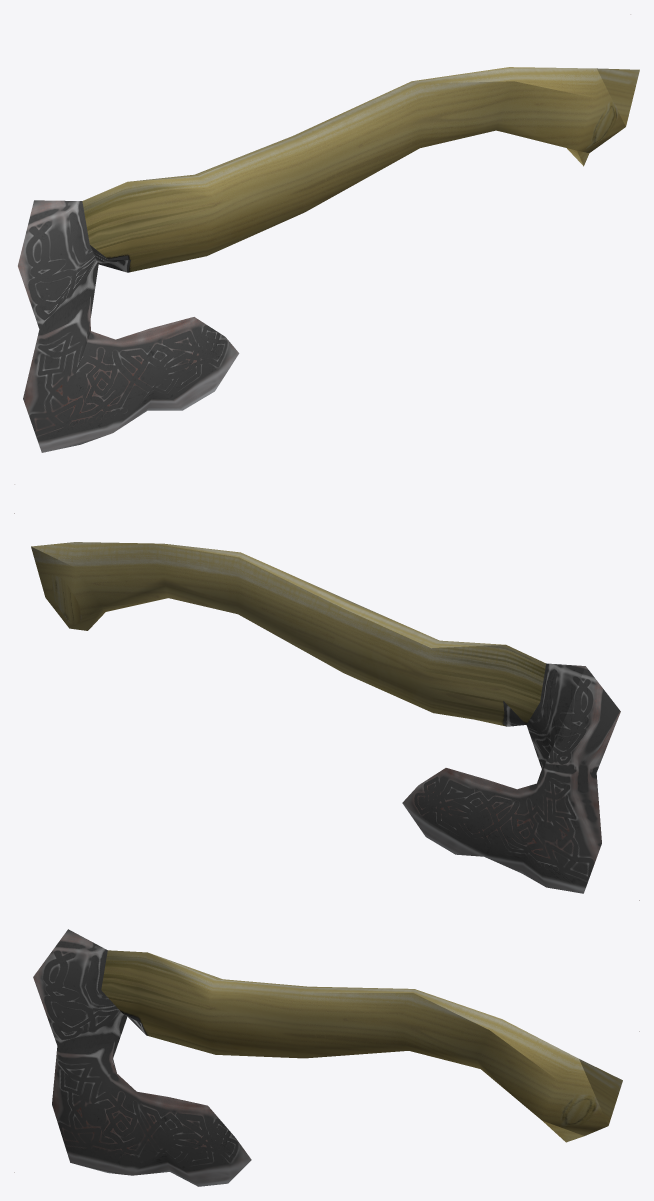
The model's file is Axt_LOD1.dae.
The picture shows the model from 3 angles, top to bottom: view 1: azimuth 30°, elevation 25°; view 2: azimuth 150°, elevation 25°; view 3: azimuth 330°, elevation 25°; orthographic projection. The views are drawn at different scales.
Visible parts, largest first — view 1: Axt_LOD1; view 2: Axt_LOD1; view 3: Axt_LOD1.
Boxes of the visible parts, box(x1,y1,x2,y2) form: Axt_LOD1: box(14, 14, 639, 484); Axt_LOD1: box(14, 513, 639, 900); Axt_LOD1: box(14, 929, 639, 1186).
Size of the model in its own units: 0.27 by 0.0242 by 0.1143.
Materials: 1 (1 with a texture image).
